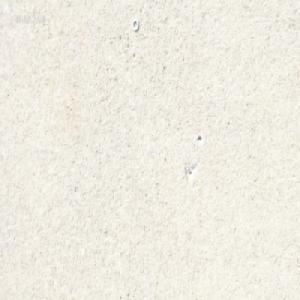Washer: (131, 18, 139, 32)
